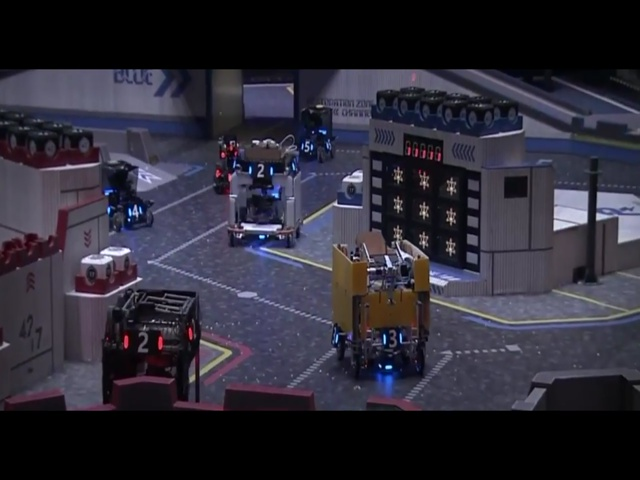bluePlate: (245, 157, 278, 183), (377, 325, 407, 352), (122, 198, 148, 225), (296, 134, 318, 159), (330, 319, 344, 349), (323, 134, 335, 156)
redPlate: (120, 326, 166, 355), (185, 316, 198, 347)
